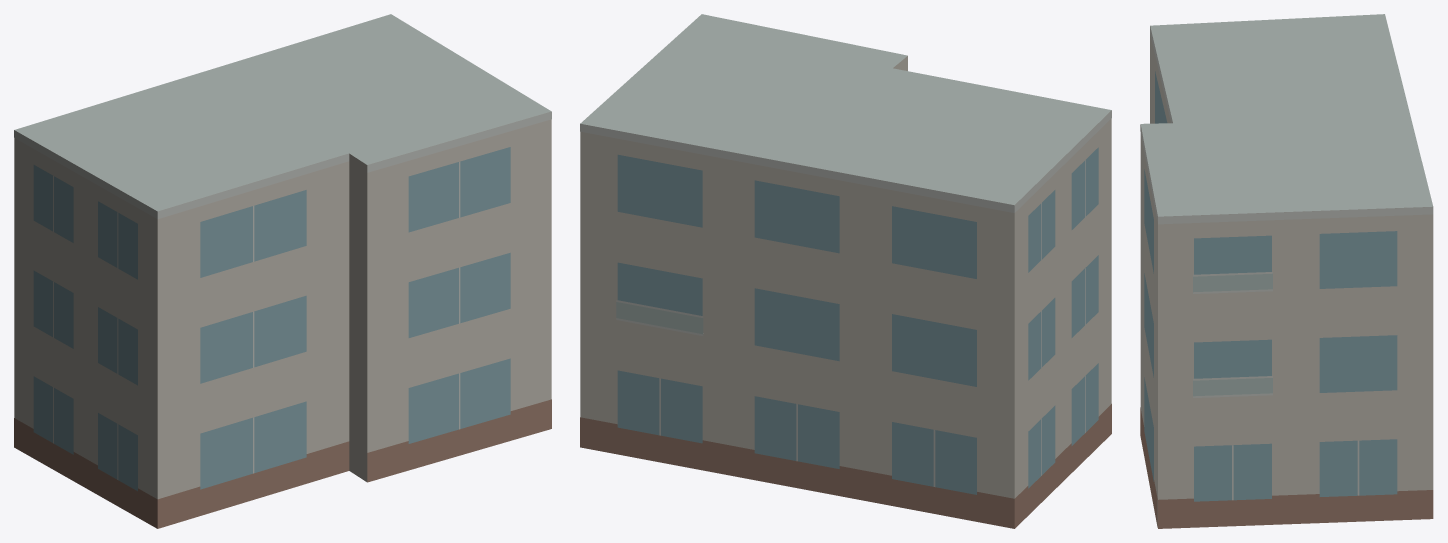
File: survey-upis-32635831.glb
The picture shows the model from 3 angles, left to right: view 1: azimuth 30°, elevation 25°; view 2: azimuth 150°, elevation 25°; view 3: azimuth 270°, elevation 25°; orthographic projection. The views are drawn at different scales.
Visible parts, largest first — view 1: survey-upis-32635831.tmp; view 2: survey-upis-32635831.tmp; view 3: survey-upis-32635831.tmp.
Boxes of the visible parts, x1=… form: survey-upis-32635831.tmp: x1=14, y1=14, x2=551, y2=528; survey-upis-32635831.tmp: x1=580, y1=14, x2=1111, y2=528; survey-upis-32635831.tmp: x1=1140, y1=14, x2=1433, y2=528.
Bounding box in the file's own units: 13.79 × 9.9 × 8.42.
